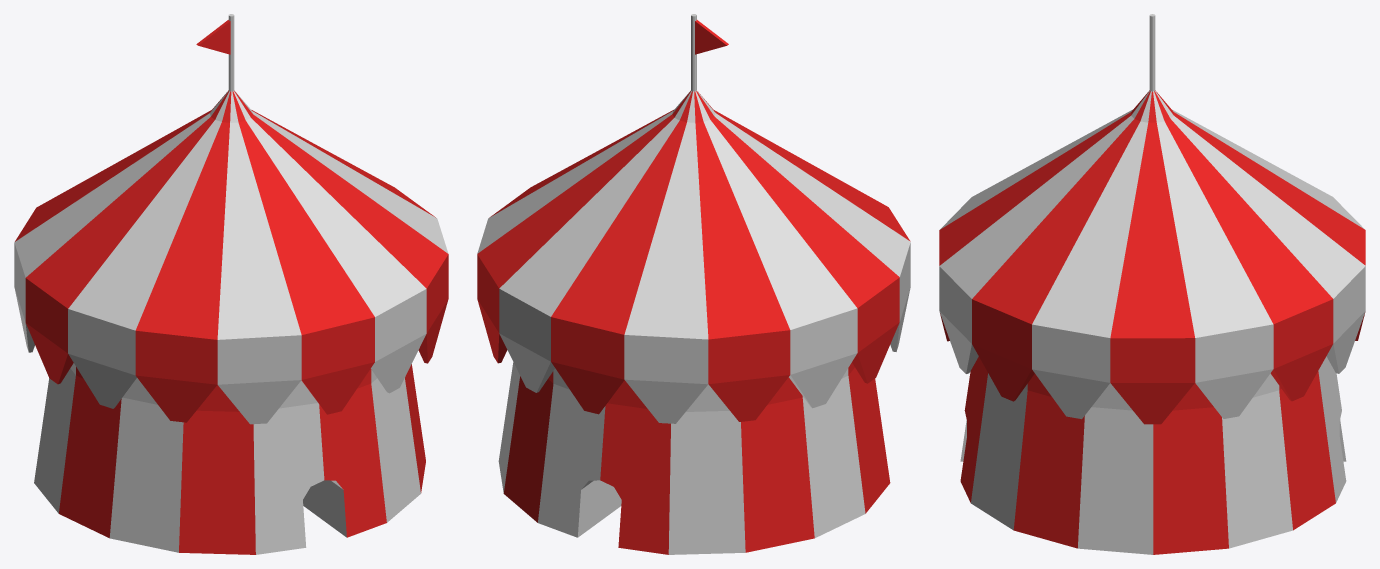
Rendered from Circus Tent.fbx.
3 renders of one model, left to right at view 1: azimuth 30°, elevation 25°; view 2: azimuth 150°, elevation 25°; view 3: azimuth 270°, elevation 25°, orthographic.
Visible parts, largest first — view 1: Circus Tent; view 2: Circus Tent; view 3: Circus Tent.
Part boxes in pixels (x1=…): Circus Tent: x1=14, y1=14, x2=448, y2=554; Circus Tent: x1=477, y1=14, x2=910, y2=554; Circus Tent: x1=939, y1=14, x2=1365, y2=554.
Size of the model in its own units: 86.33 by 102 by 86.33.
